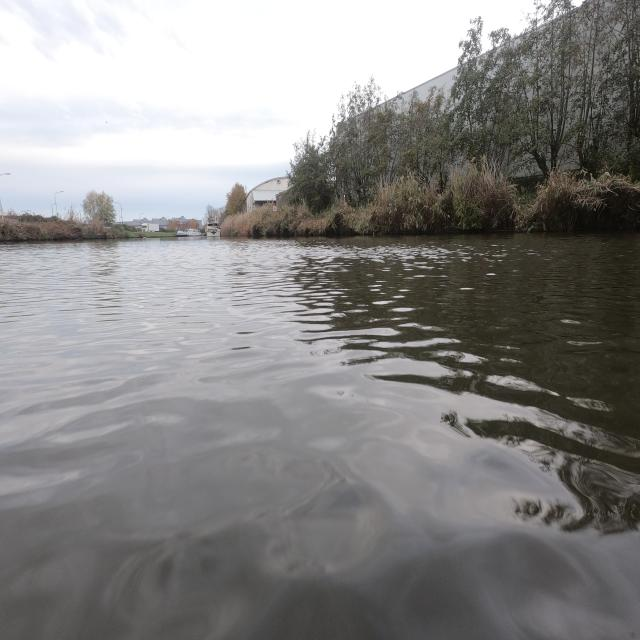reed: (241, 168, 627, 235), (1, 211, 114, 243)
sky: (1, 0, 521, 218)
tree: (290, 0, 640, 210)
water: (1, 229, 638, 639)
